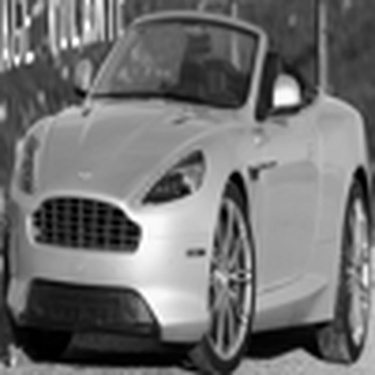car: (2, 2, 369, 373)
